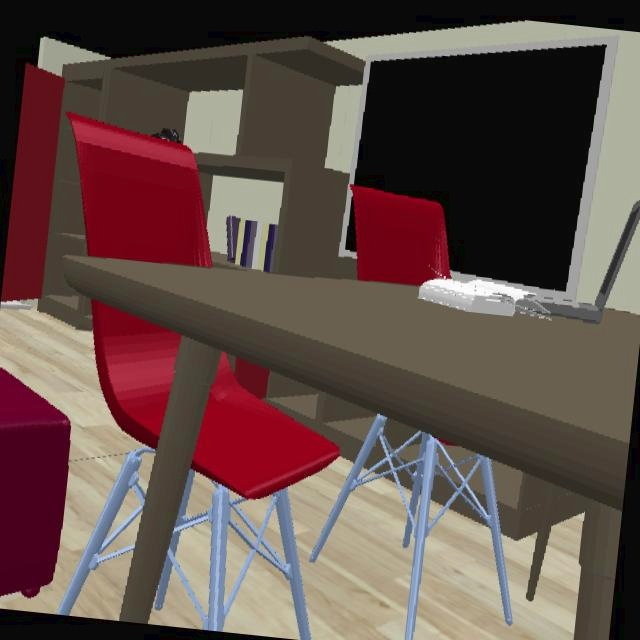book: (418, 280, 552, 319)
bookshelf: (37, 36, 368, 332), (266, 373, 374, 461), (492, 464, 539, 538)
chair: (167, 354, 340, 640), (310, 415, 512, 640), (56, 302, 182, 615), (68, 113, 212, 269), (351, 186, 451, 288)
laptop: (537, 200, 640, 323)
monitor: (349, 35, 617, 299)
sofa: (0, 369, 72, 598)
table: (62, 256, 640, 640)
